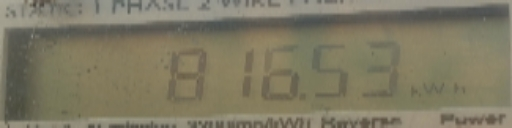1: (237, 35, 259, 110)
2: (258, 37, 299, 101)
3: (362, 31, 402, 103)
5: (313, 40, 351, 100)
8: (162, 28, 212, 110)
d: (300, 89, 308, 103)
